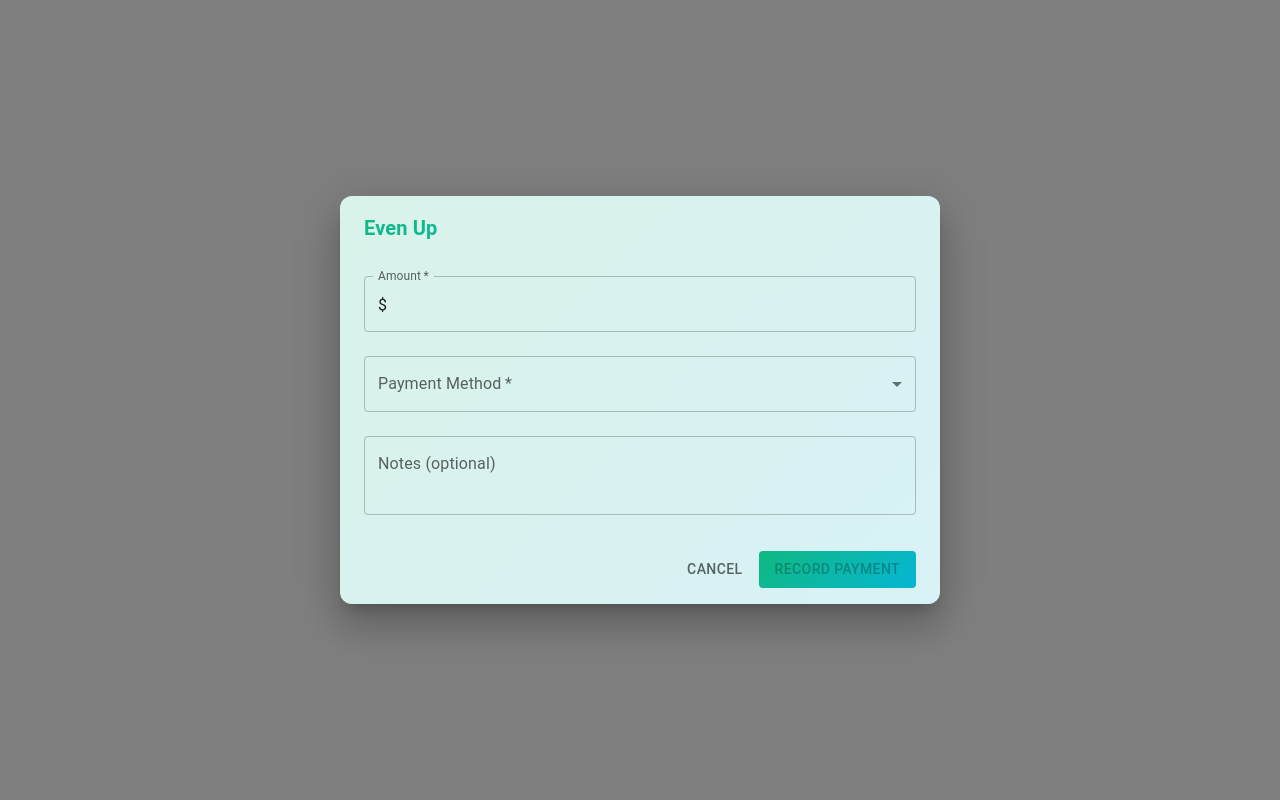
Test: EvenUpDialog › should display all payment method options
The image size is (1280, 800).
Open the payment method select by clicking the combobox
Press the mouse on the dropdown at (640, 384), box left=364, top=356, right=916, bottom=412
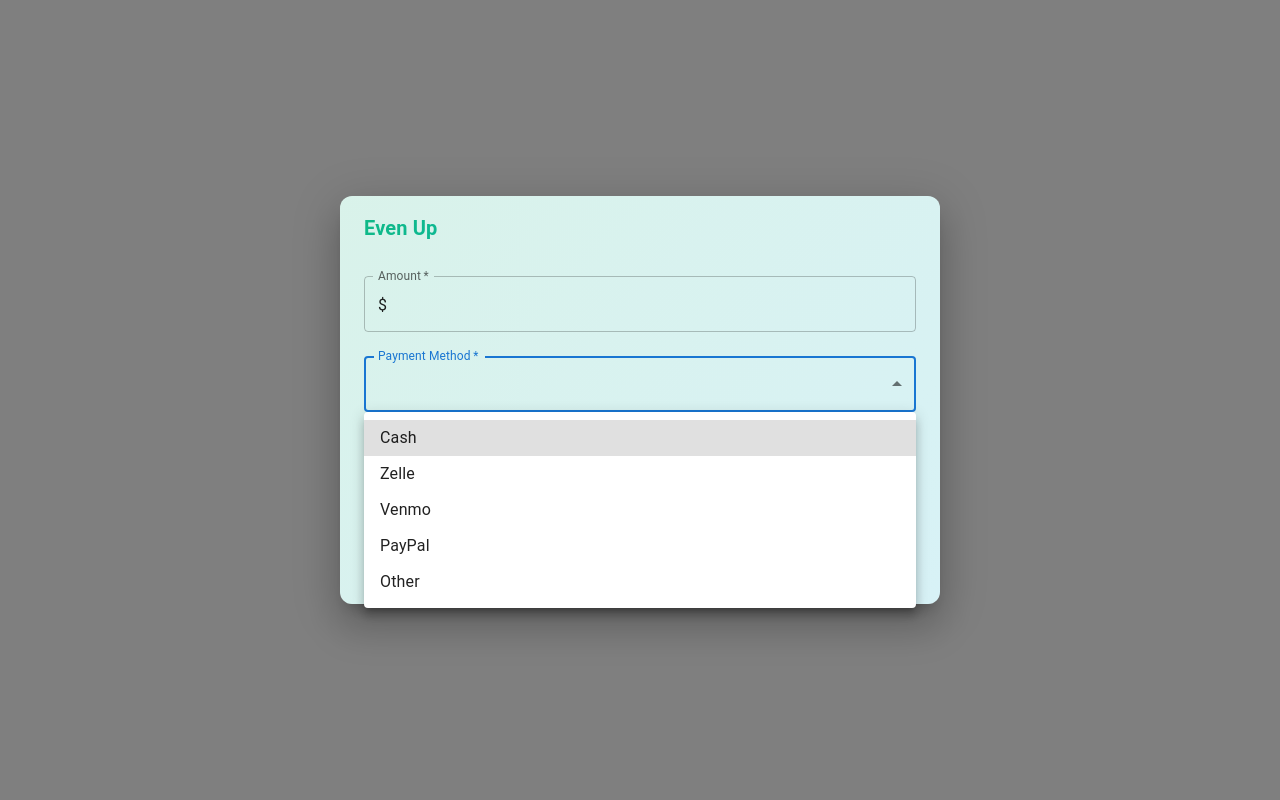
Now the option "Cash" is shown, box left=364, top=420, right=916, bottom=456
Now the option "Zelle" is shown, box left=380, top=464, right=415, bottom=483
Now the option "Venmo" is shown, box left=380, top=500, right=431, bottom=519
